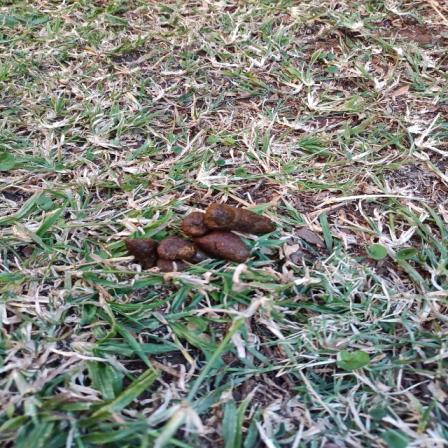dog-poop: (123, 190, 282, 278)
